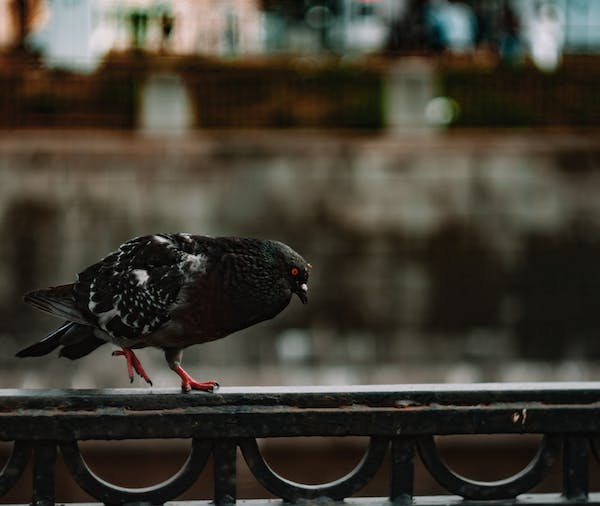Walking: (10, 182, 322, 409)
